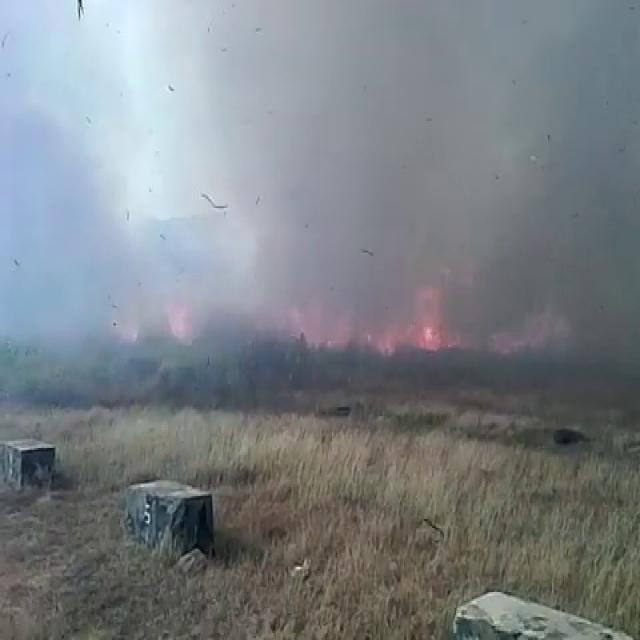Smoke: (6, 0, 640, 359)
